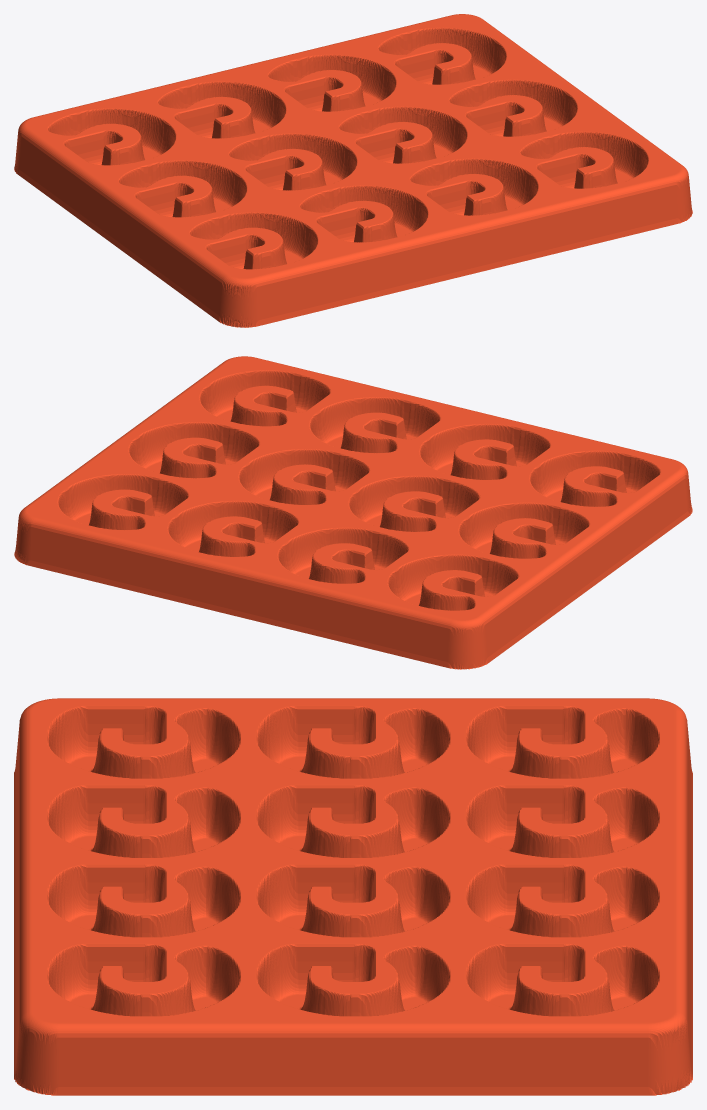
The model's file is mold.glb.
3 views of the same model, one above another, from view 1: azimuth 30°, elevation 25°; view 2: azimuth 150°, elevation 25°; view 3: azimuth 270°, elevation 25° (orthographic). The views are drawn at different scales.
Parts seen in each view (by area): view 1: geometry_0; view 2: geometry_0; view 3: geometry_0.
Boxes of the visible parts, bbox=[...] form: geometry_0: bbox=[14, 14, 692, 327]; geometry_0: bbox=[14, 356, 692, 669]; geometry_0: bbox=[14, 698, 692, 1095].
Size of the model in its own units: 0.1621 by 0.0145 by 0.1374.
